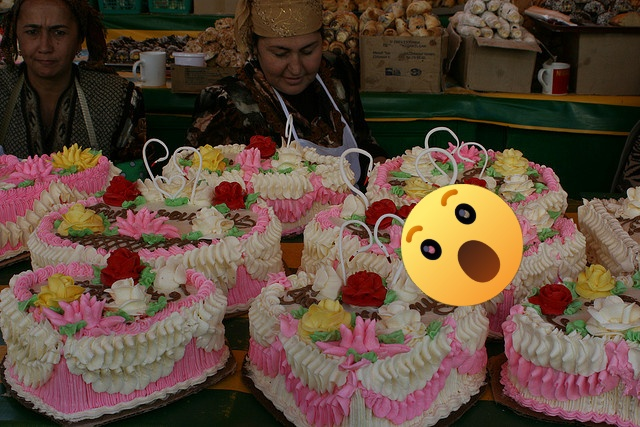wow: (401, 184, 523, 306)
